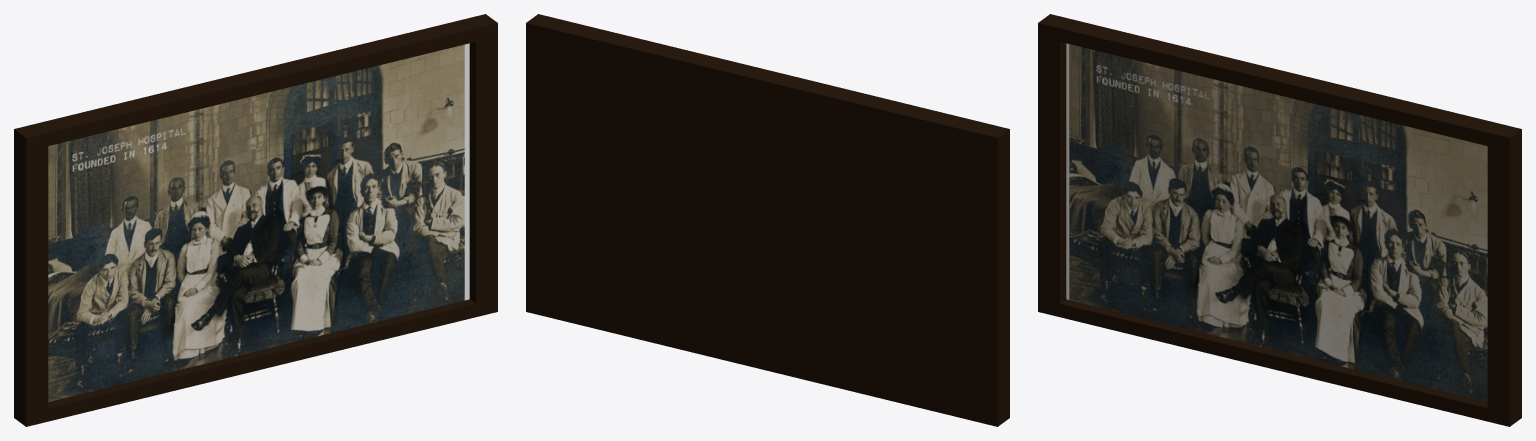
File: portrait.fbx
3 renders of one model, left to right at view 1: azimuth 30°, elevation 25°; view 2: azimuth 150°, elevation 25°; view 3: azimuth 330°, elevation 25°, orthographic.
Visible parts, largest first — view 1: Cube.001, Cube; view 2: Cube; view 3: Cube.001, Cube.
Boxes of the visible parts, x1,y1,x2,y2 form: Cube.001: (48, 43, 469, 401); Cube: (14, 14, 497, 426); Cube: (526, 14, 1009, 426); Cube.001: (1066, 43, 1487, 401); Cube: (1038, 14, 1521, 426).
Size of the model in its own units: 379 by 222 by 17.08.
